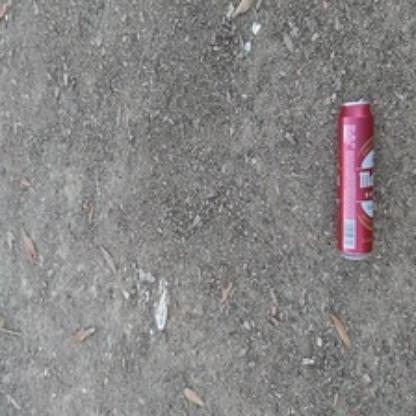Can: (336, 101, 378, 258)
